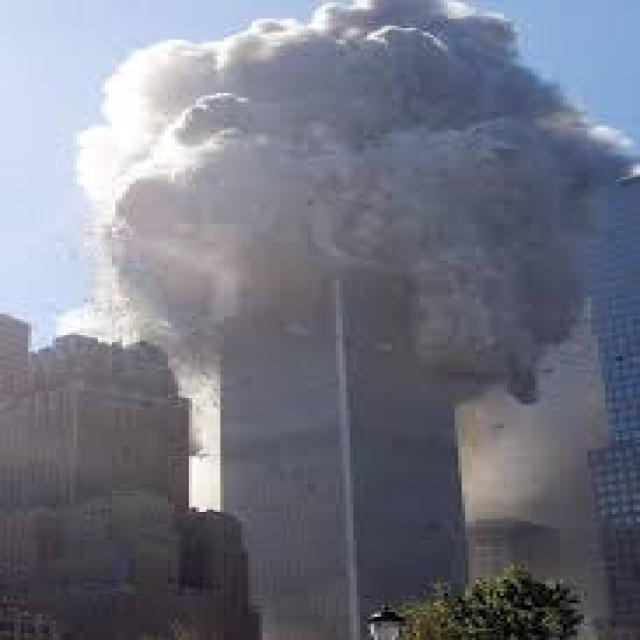Smoke: (53, 0, 640, 406)
